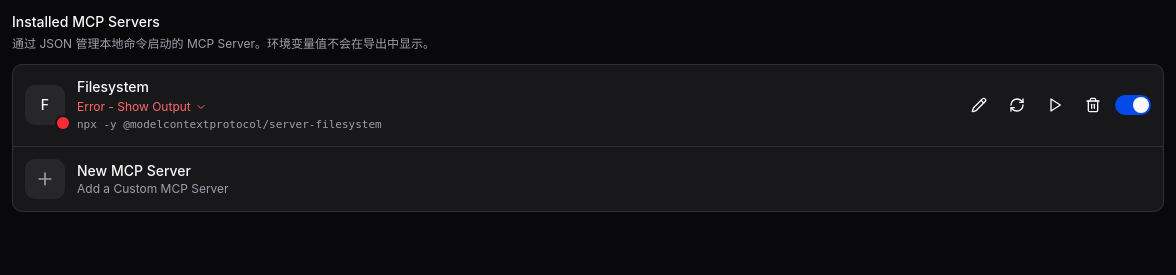
Test: McpServersTab › 失败 server 可展开错误输出
Click the button "Error - Show Output" at coordinates (142, 107), box x1=77 y1=99 x2=207 y2=115
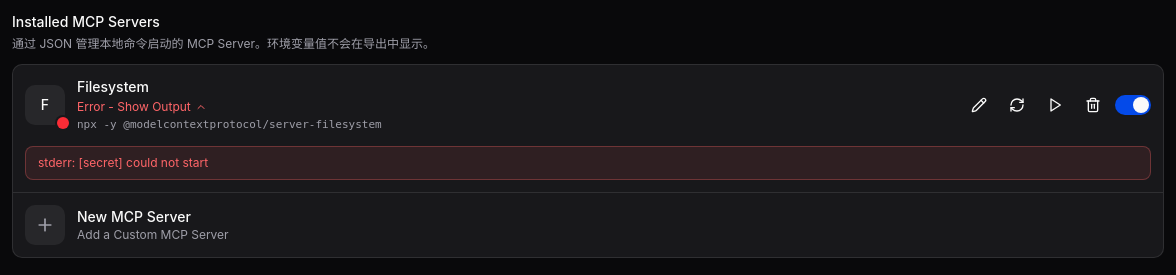
Result: the text "stderr: [secret] could not start" is shown at x1=25 y1=146 x2=1151 y2=180
